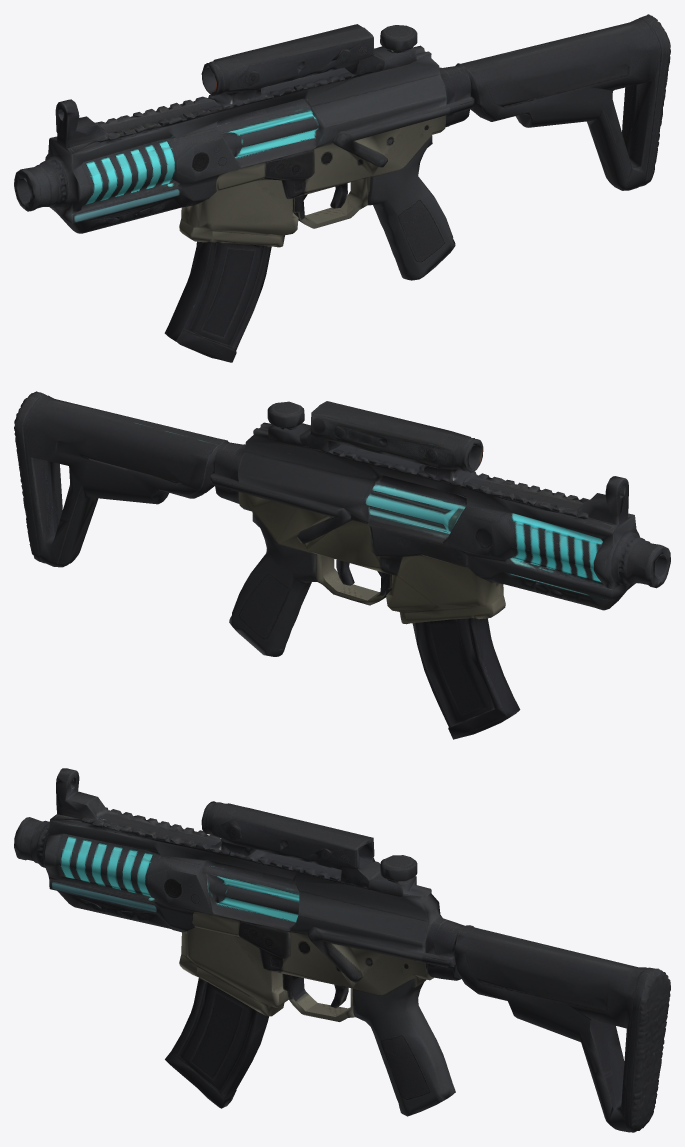
File: assault-rifle.glb
3 views of the same model, one above another, from view 1: azimuth 30°, elevation 25°; view 2: azimuth 150°, elevation 25°; view 3: azimuth 330°, elevation 25° (orthographic).
Visible parts, largest first — view 1: Mesh_0; view 2: Mesh_0; view 3: Mesh_0.
Boxes of the visible parts, bbox=[...] form: Mesh_0: bbox=[14, 14, 670, 362]; Mesh_0: bbox=[14, 391, 670, 739]; Mesh_0: bbox=[14, 768, 670, 1132].
Bounding box in the file's own units: 0.85 × 0.384 × 0.0818.
1 material, 1 textured.
